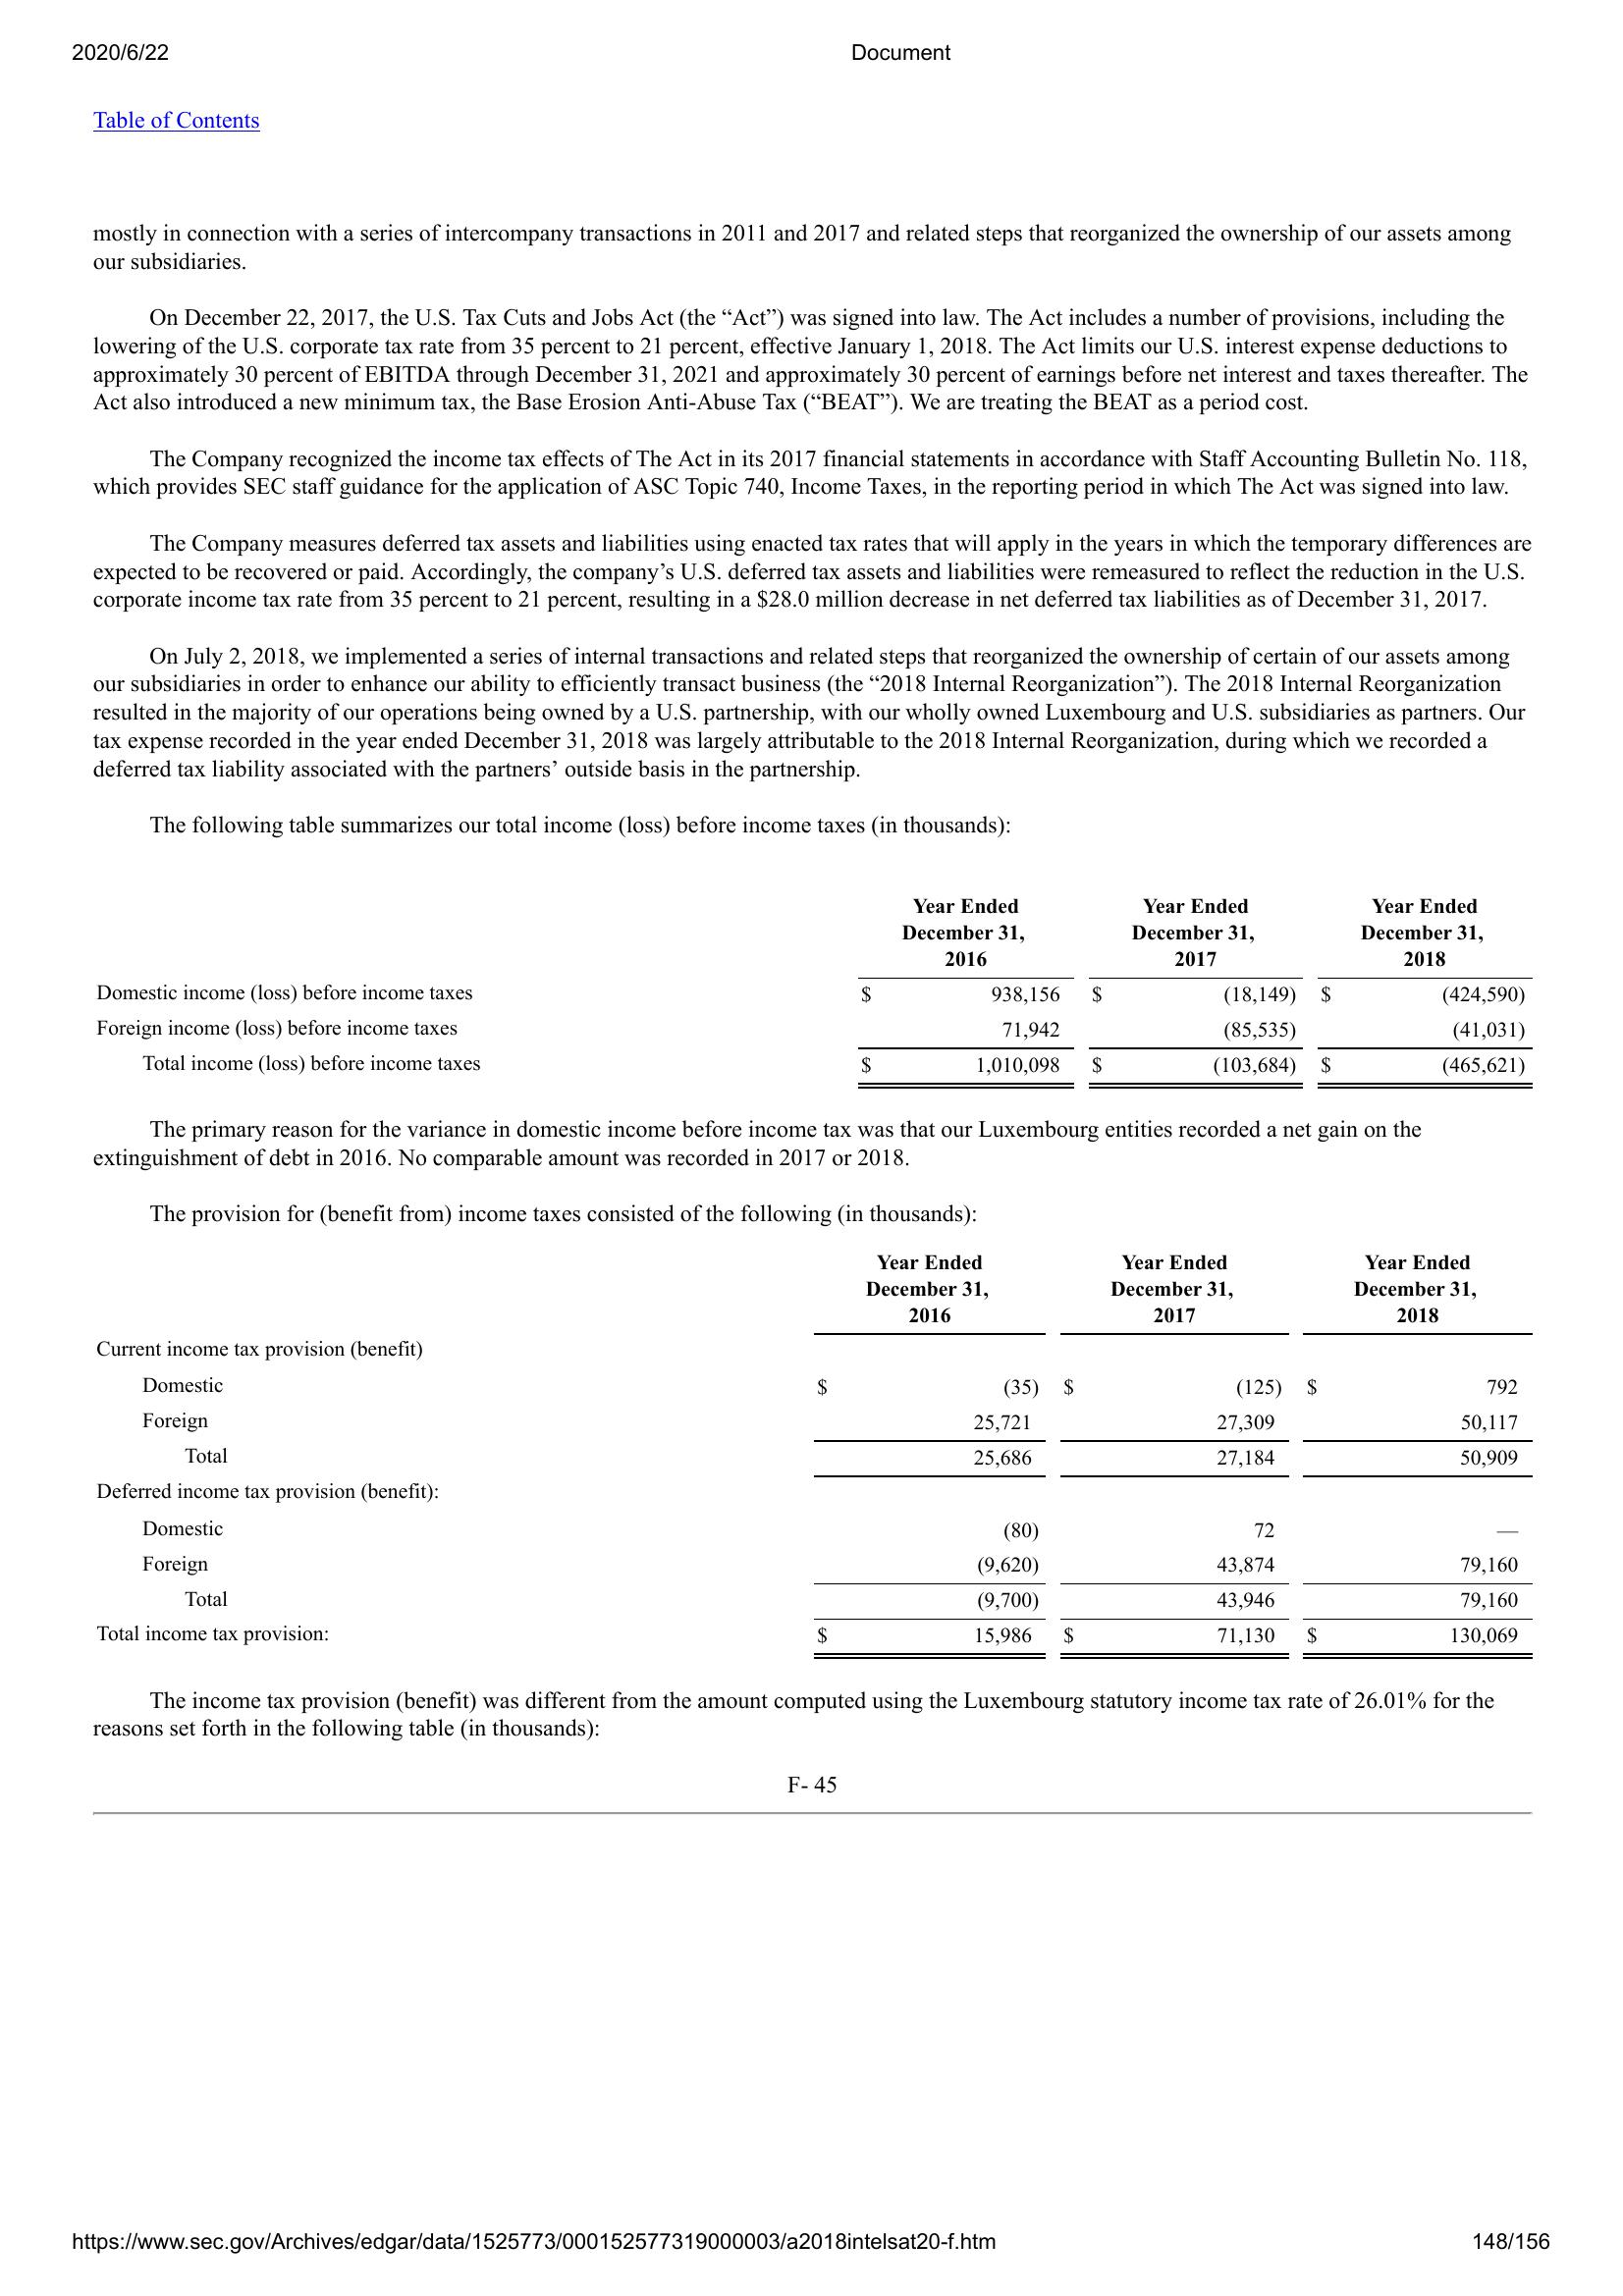table: (95, 1246, 1540, 1664), (90, 892, 1542, 1095)
